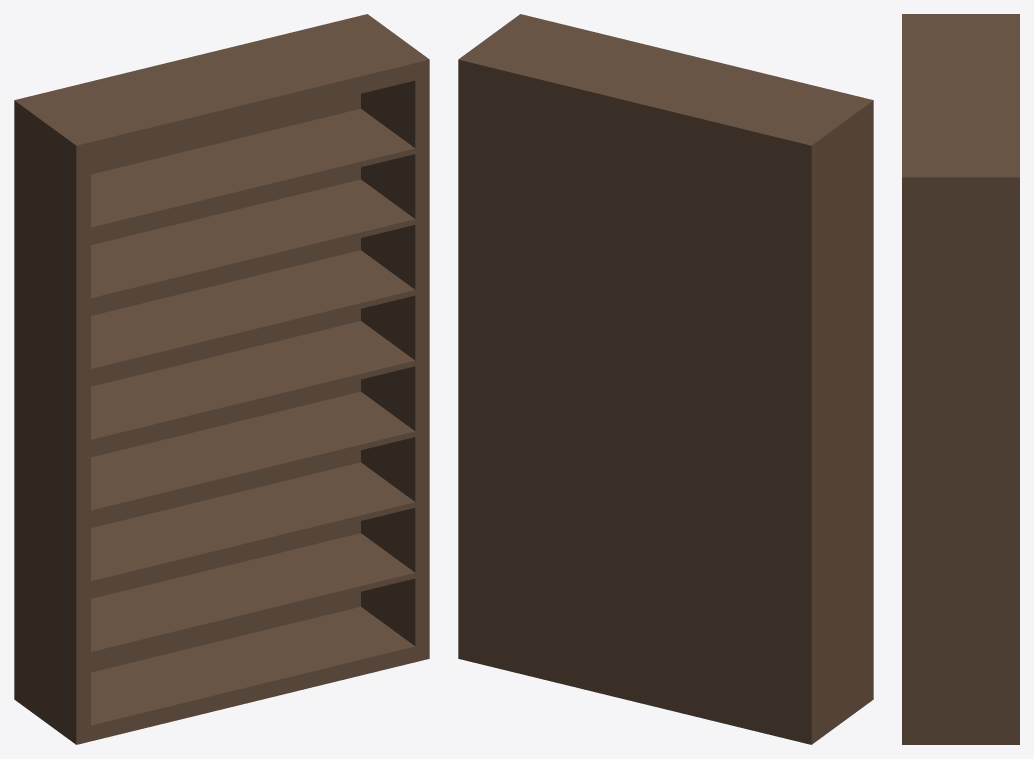
File: book_shelf_2.glb
3 renders of one model, left to right at view 1: azimuth 30°, elevation 25°; view 2: azimuth 150°, elevation 25°; view 3: azimuth 270°, elevation 25°, orthographic. The views are drawn at different scales.
Parts seen in each view (by area): view 1: bookShelf; view 2: bookShelf; view 3: bookShelf.
Part boxes in pixels (left/top/right/bottom): bookShelf: left=14, top=14, right=429, bottom=744; bookShelf: left=458, top=14, right=873, bottom=744; bookShelf: left=902, top=14, right=1019, bottom=744.
Size of the model in its own units: 0.0653 by 0.1059 by 0.0199.
